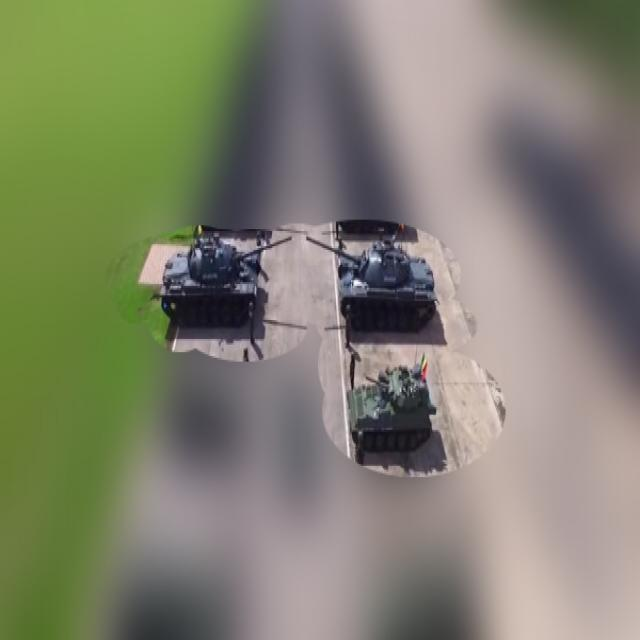tank: (302, 226, 439, 332), (158, 230, 294, 330), (340, 356, 432, 458)
